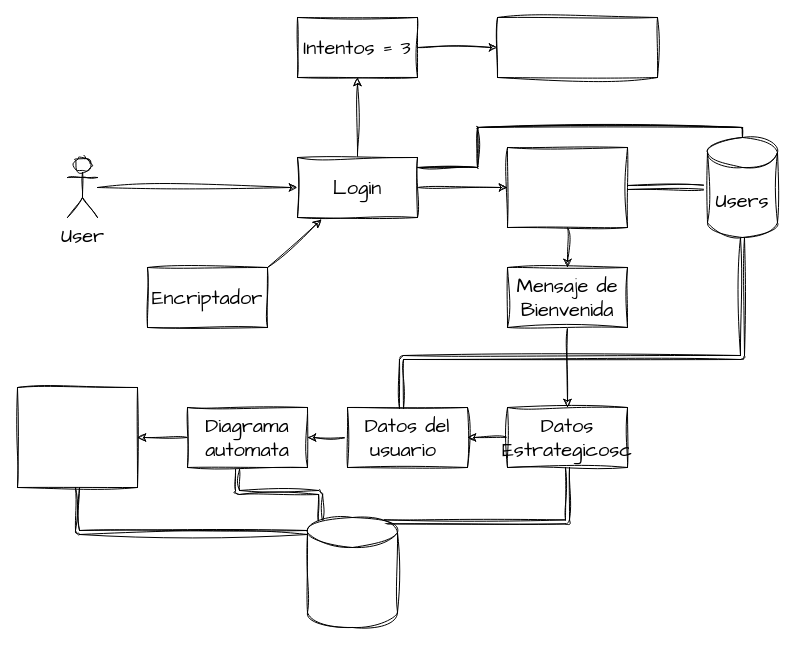
This 795x645 diagram has some shape labels left out. The centre of each missing label's shape, as x and y in pixels:
Codigos nucleare: point (352, 572)
Salir del programa: point (577, 47)
Ubicacion para tirar bomba: point (77, 437)
Usuario y Contraseña coinciden: point (567, 187)
